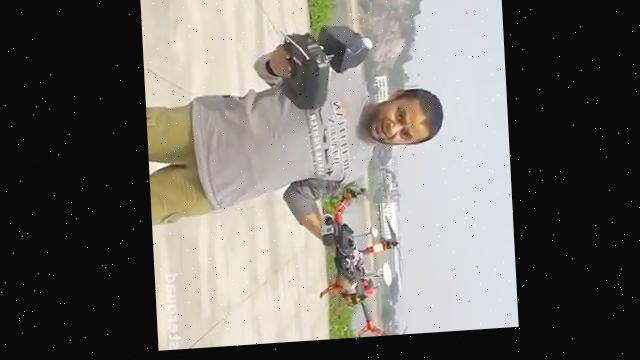drone: (309, 181, 405, 344)
